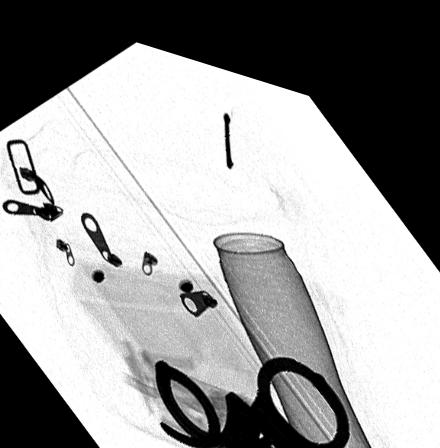HandCuffs: (152, 338, 349, 447)
